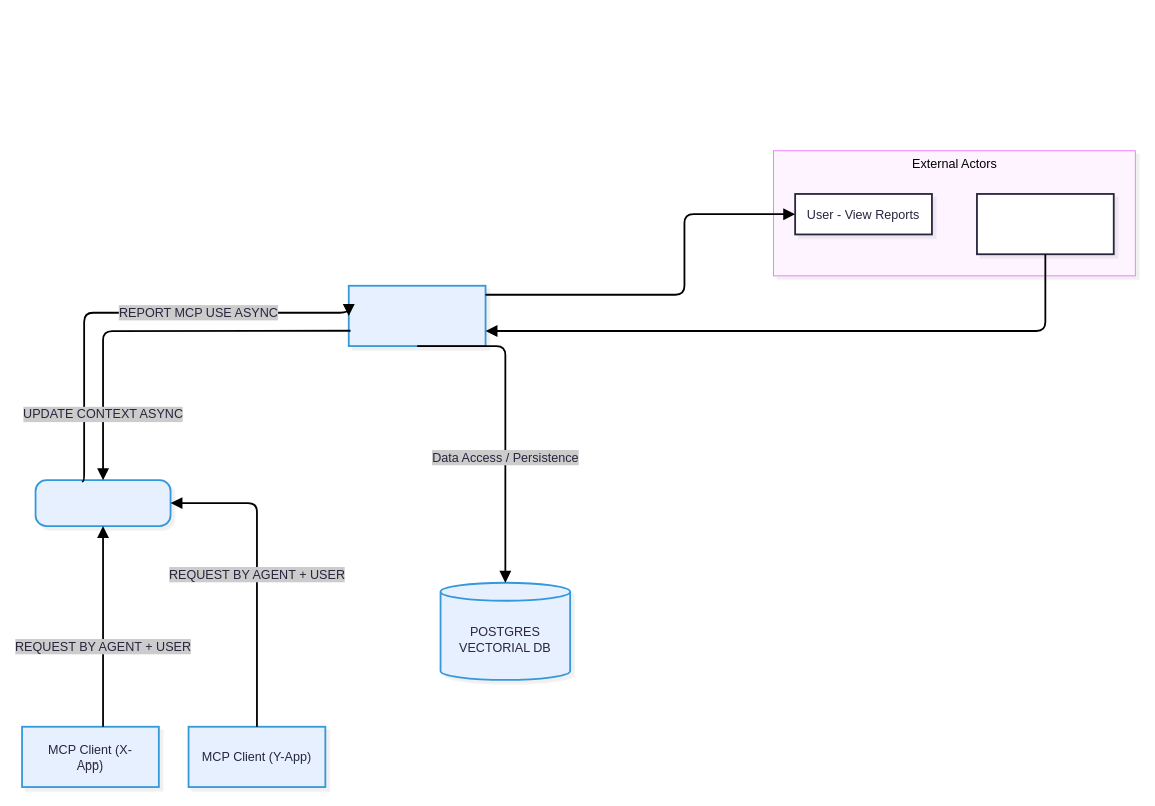
This 1155x806 diagram has some shape labels left out. The shapes that lost their labels are listed below. From the top down, each one's centre as x and y in pixels, then its label:
At (x=1047, y=225): "User - CRUD Context".
At (x=418, y=317): "LOGIC SERVER API REST".
At (x=104, y=504): "MCP SERVER".
